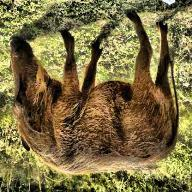boar: (13, 22, 173, 176)
